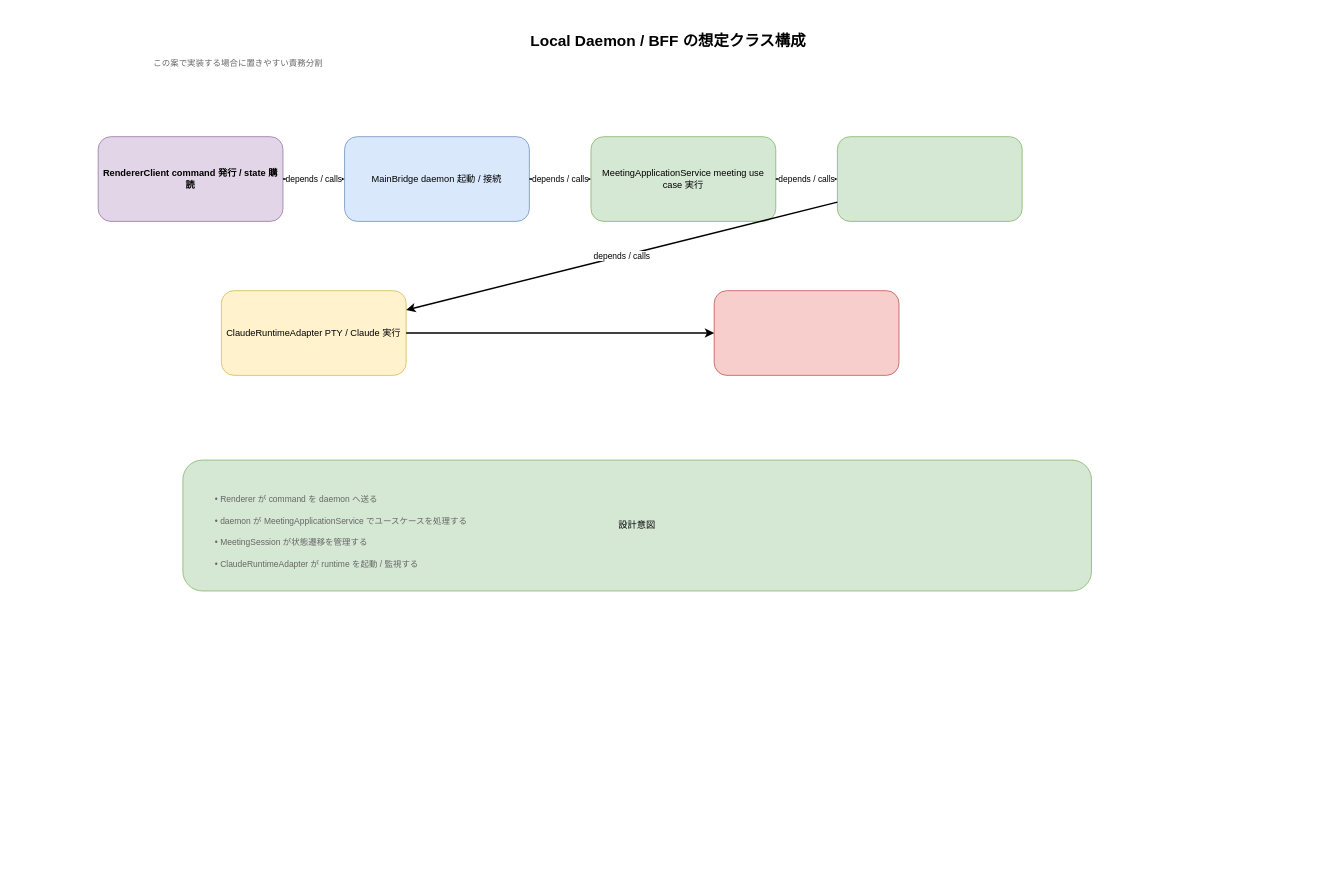
Some shapes in this 1335 by 873 pixel diagram are drawn without their labels. The shapes that lost their labels are listed below. From the top down, each one's centre as x and y in pixels, then its label:
the point at 929,178: MeetingSession session state / prompt delivery state
the point at 806,332: SessionRepository session / summary 保存
